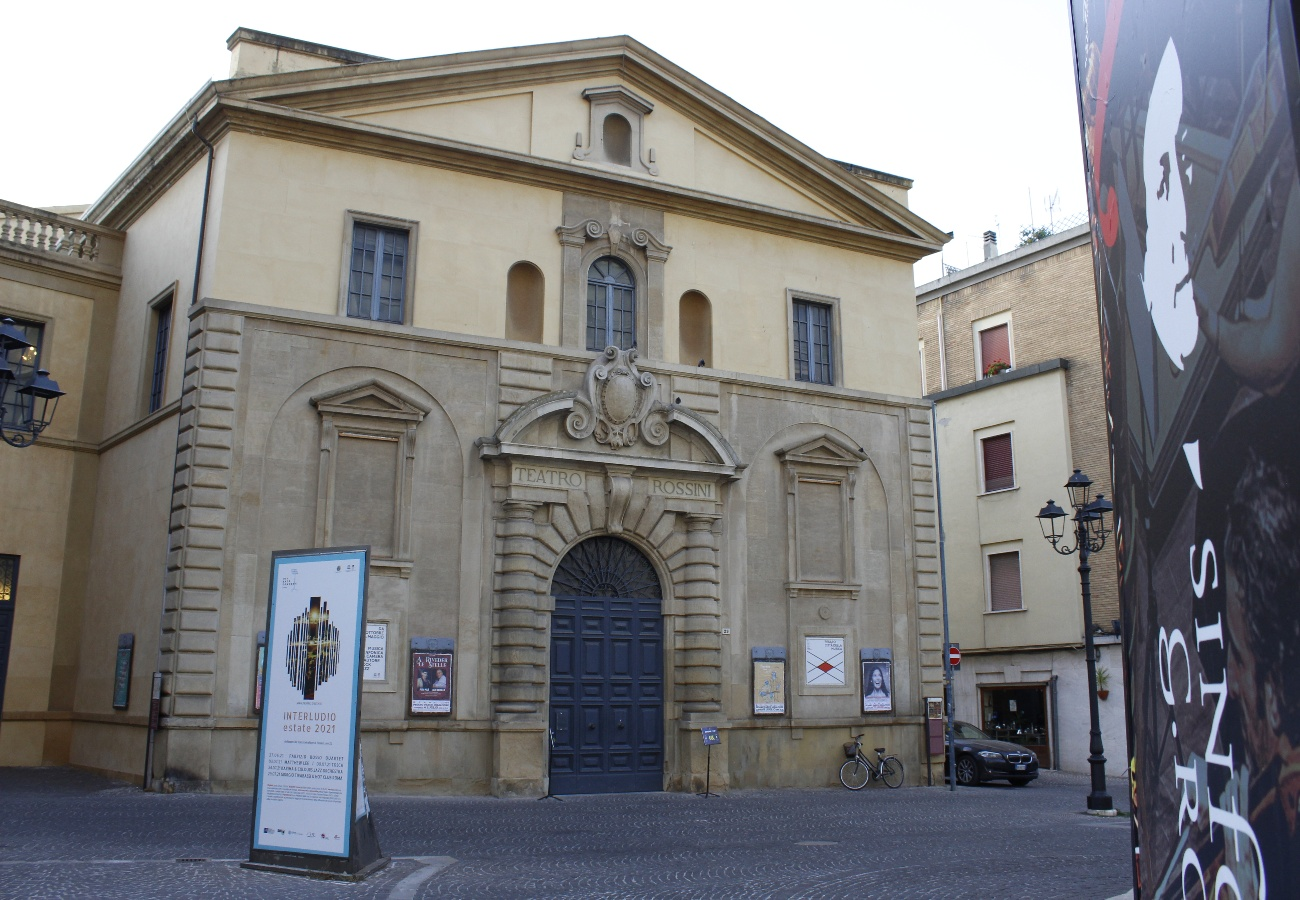Teatro Rossini: (225, 30, 933, 786)
